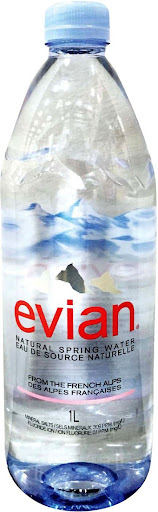PlasticBottle: (5, 19, 153, 496)
